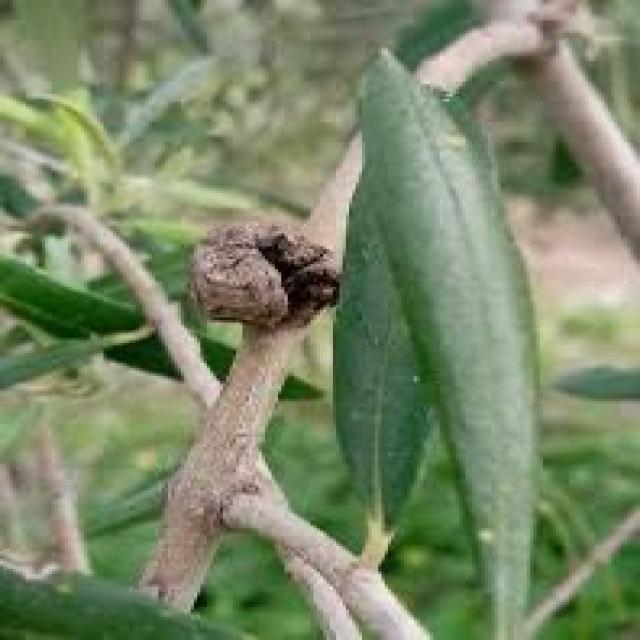Tuberculosis: (191, 203, 346, 330)
